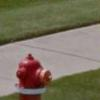Hydrant: (10, 47, 61, 100)
